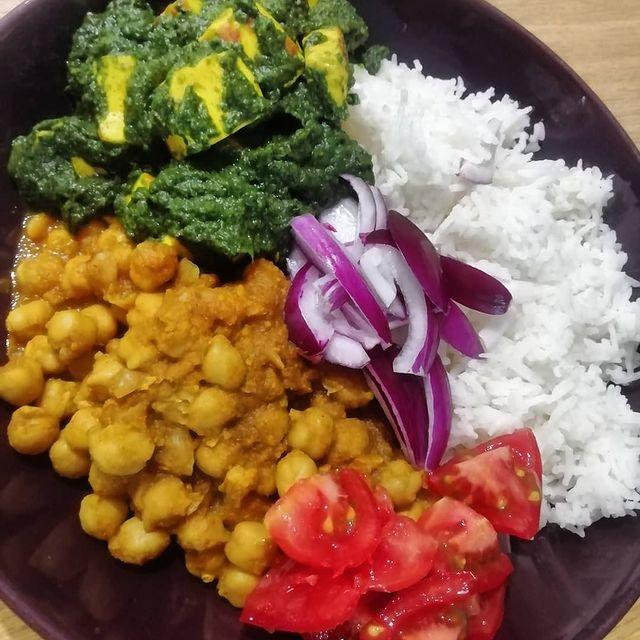Chole: (6, 230, 296, 566)
